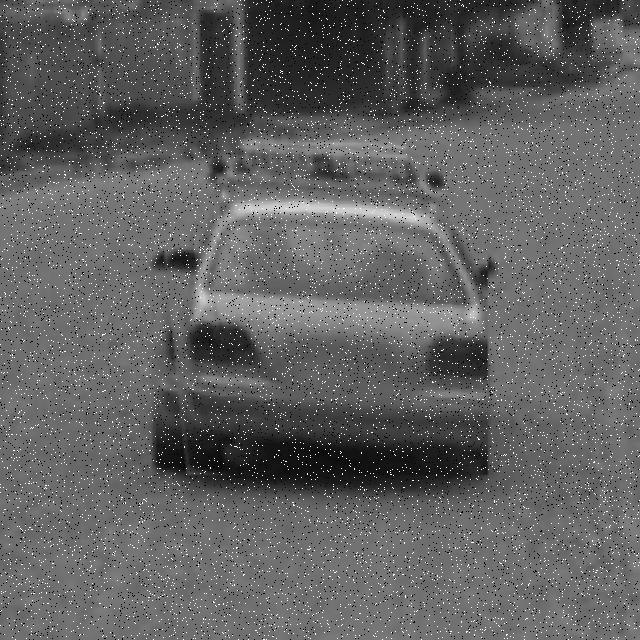car: (154, 141, 490, 476)
